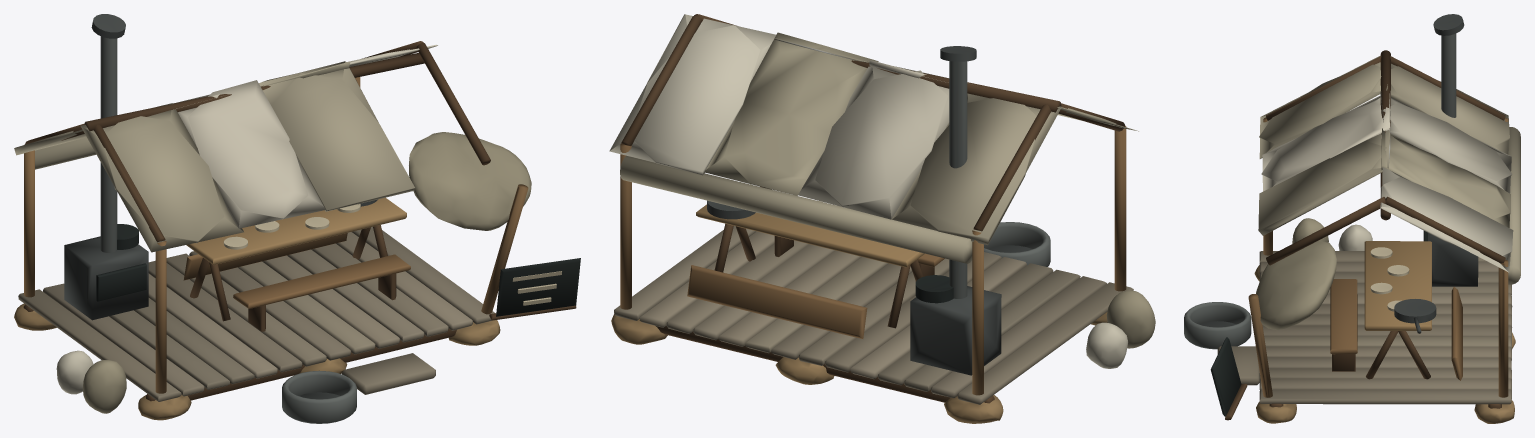
The model's file is crew_cookshack_b_lod1.glb.
3 renders of one model, left to right at view 1: azimuth 30°, elevation 25°; view 2: azimuth 150°, elevation 25°; view 3: azimuth 270°, elevation 25°, orthographic. The views are drawn at different scales.
Parts seen in each view (by area): view 1: Surface.001; view 2: Surface.001; view 3: Surface.001.
Boxes of the visible parts, left/top/right/bottom form: Surface.001: left=14, top=14, right=580, bottom=423; Surface.001: left=609, top=14, right=1155, bottom=423; Surface.001: left=1184, top=14, right=1520, bottom=423.
Size of the model in its own units: 5.48 by 3.75 by 4.01.
